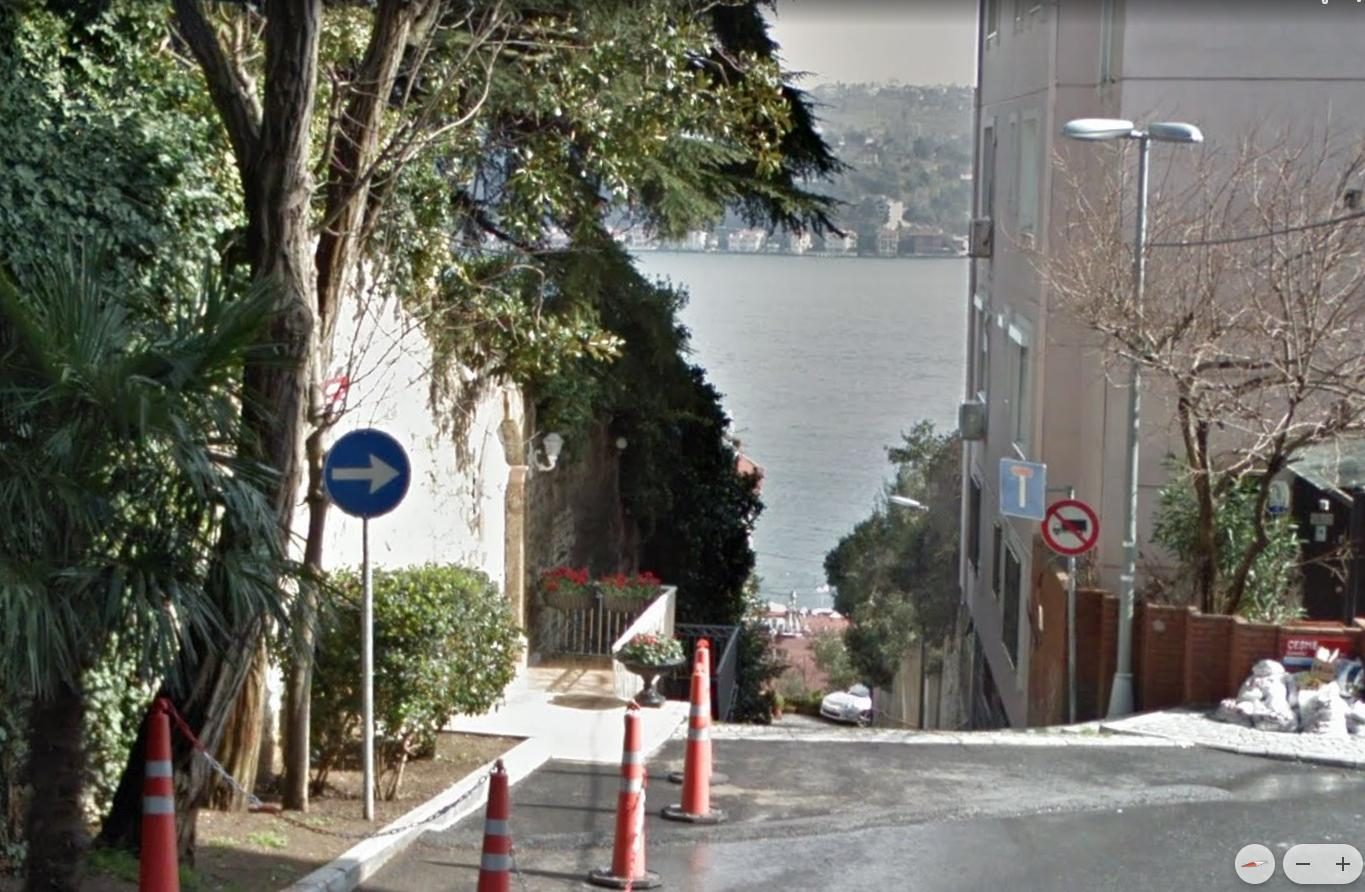turnright: (323, 429, 404, 515)
